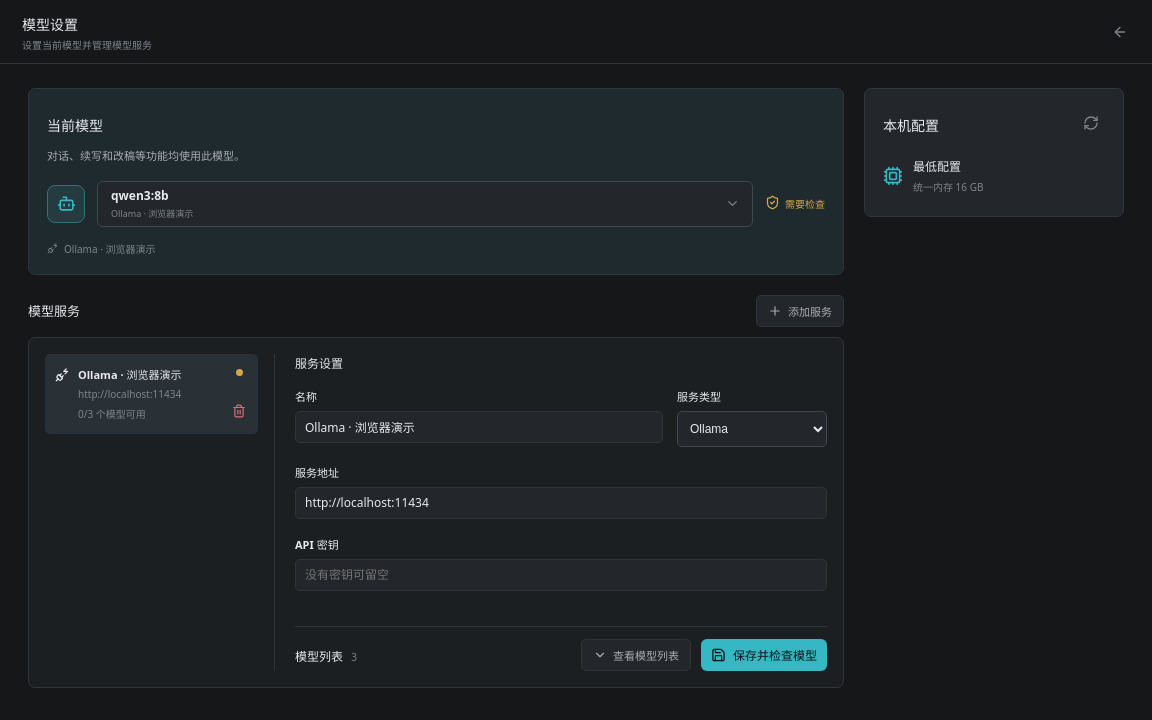
Test case: model settings workflow › discovers models and selects one active model
Click the button "保存并检查模型": click(764, 655) [701,639,827,671]
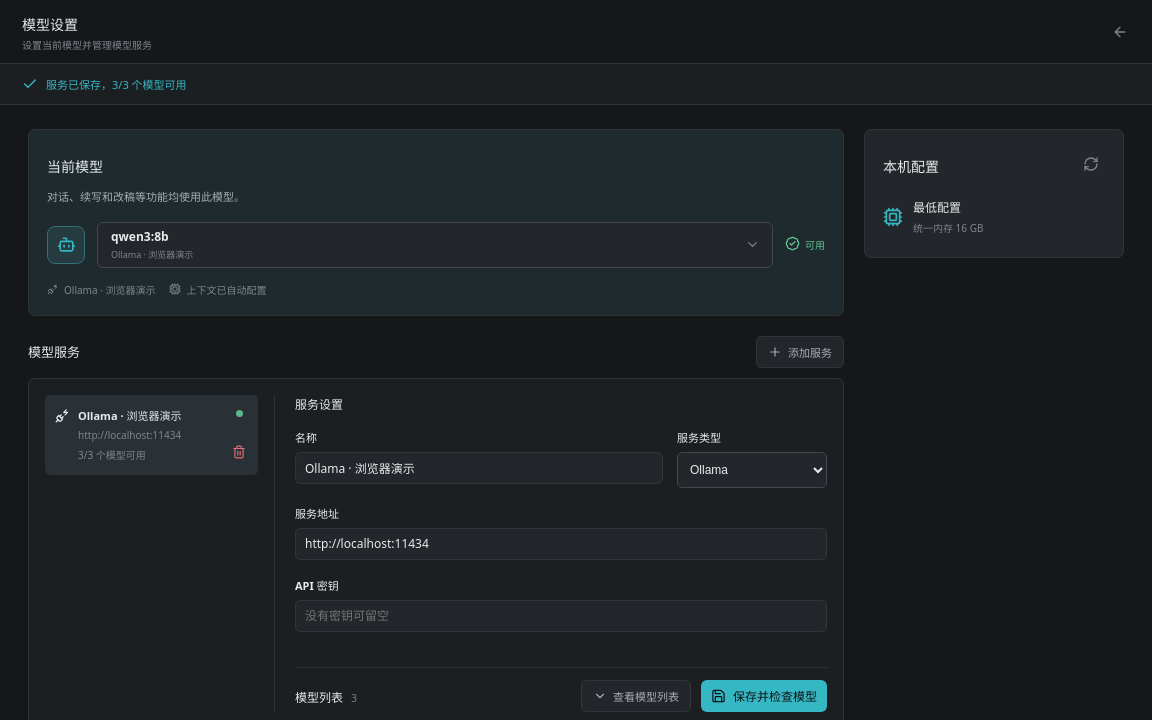
Click the dropdown named "当前模型": click(140, 237) [97,222,773,268]
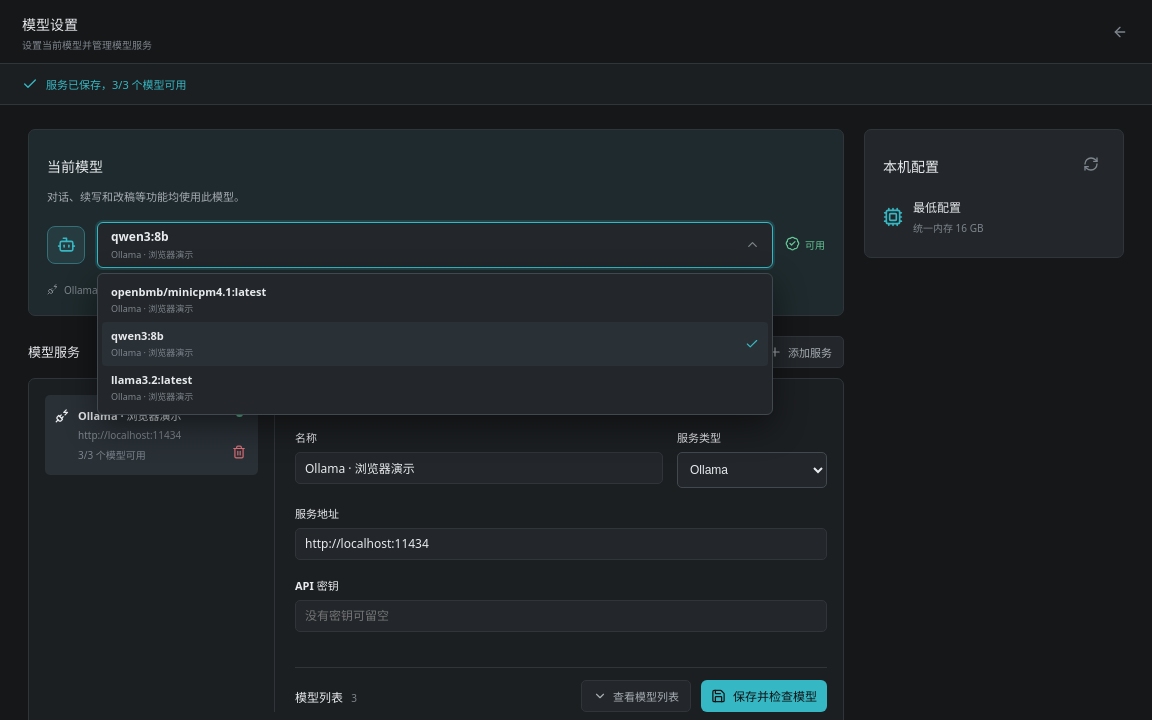
Click the option "openbmb/minicpm4.1:latest Ollama · 浏览器演示": click(189, 300) [111,284,266,315]
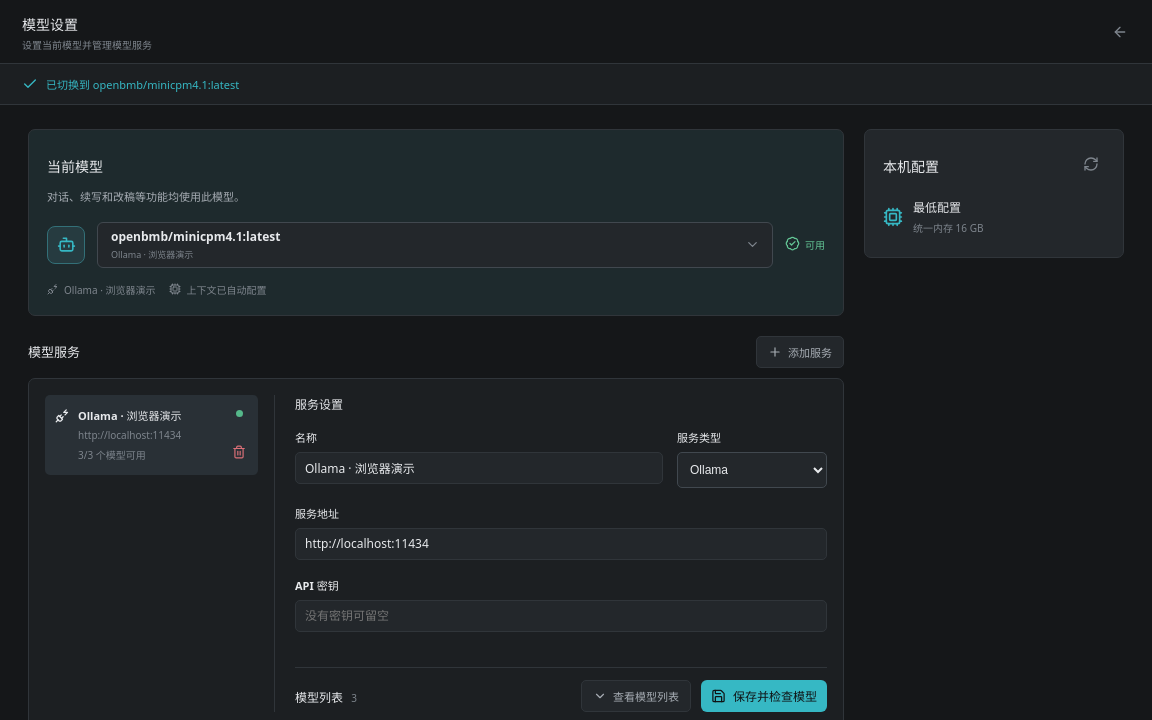
Check: the text "已切换到 openbmb/minicpm4.1:latest" is shown, box [46,76,239,92]
Check: the text "openbmb/minicpm4.1:latest" is shown, box [111,228,280,245]
